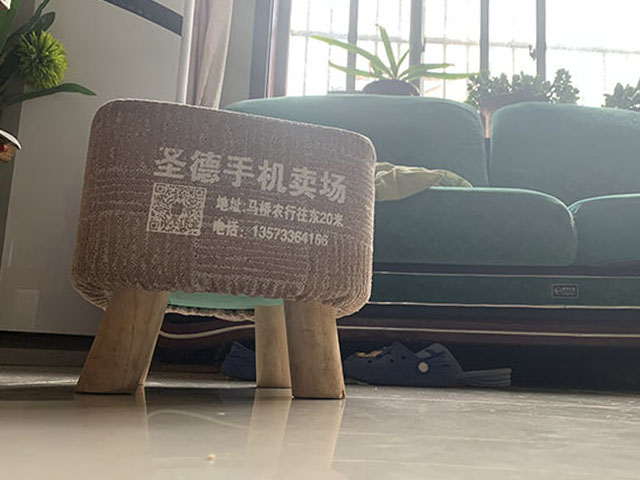slippers: (343, 337, 514, 386)
sofa: (374, 93, 640, 350)
stool: (67, 98, 380, 400)
